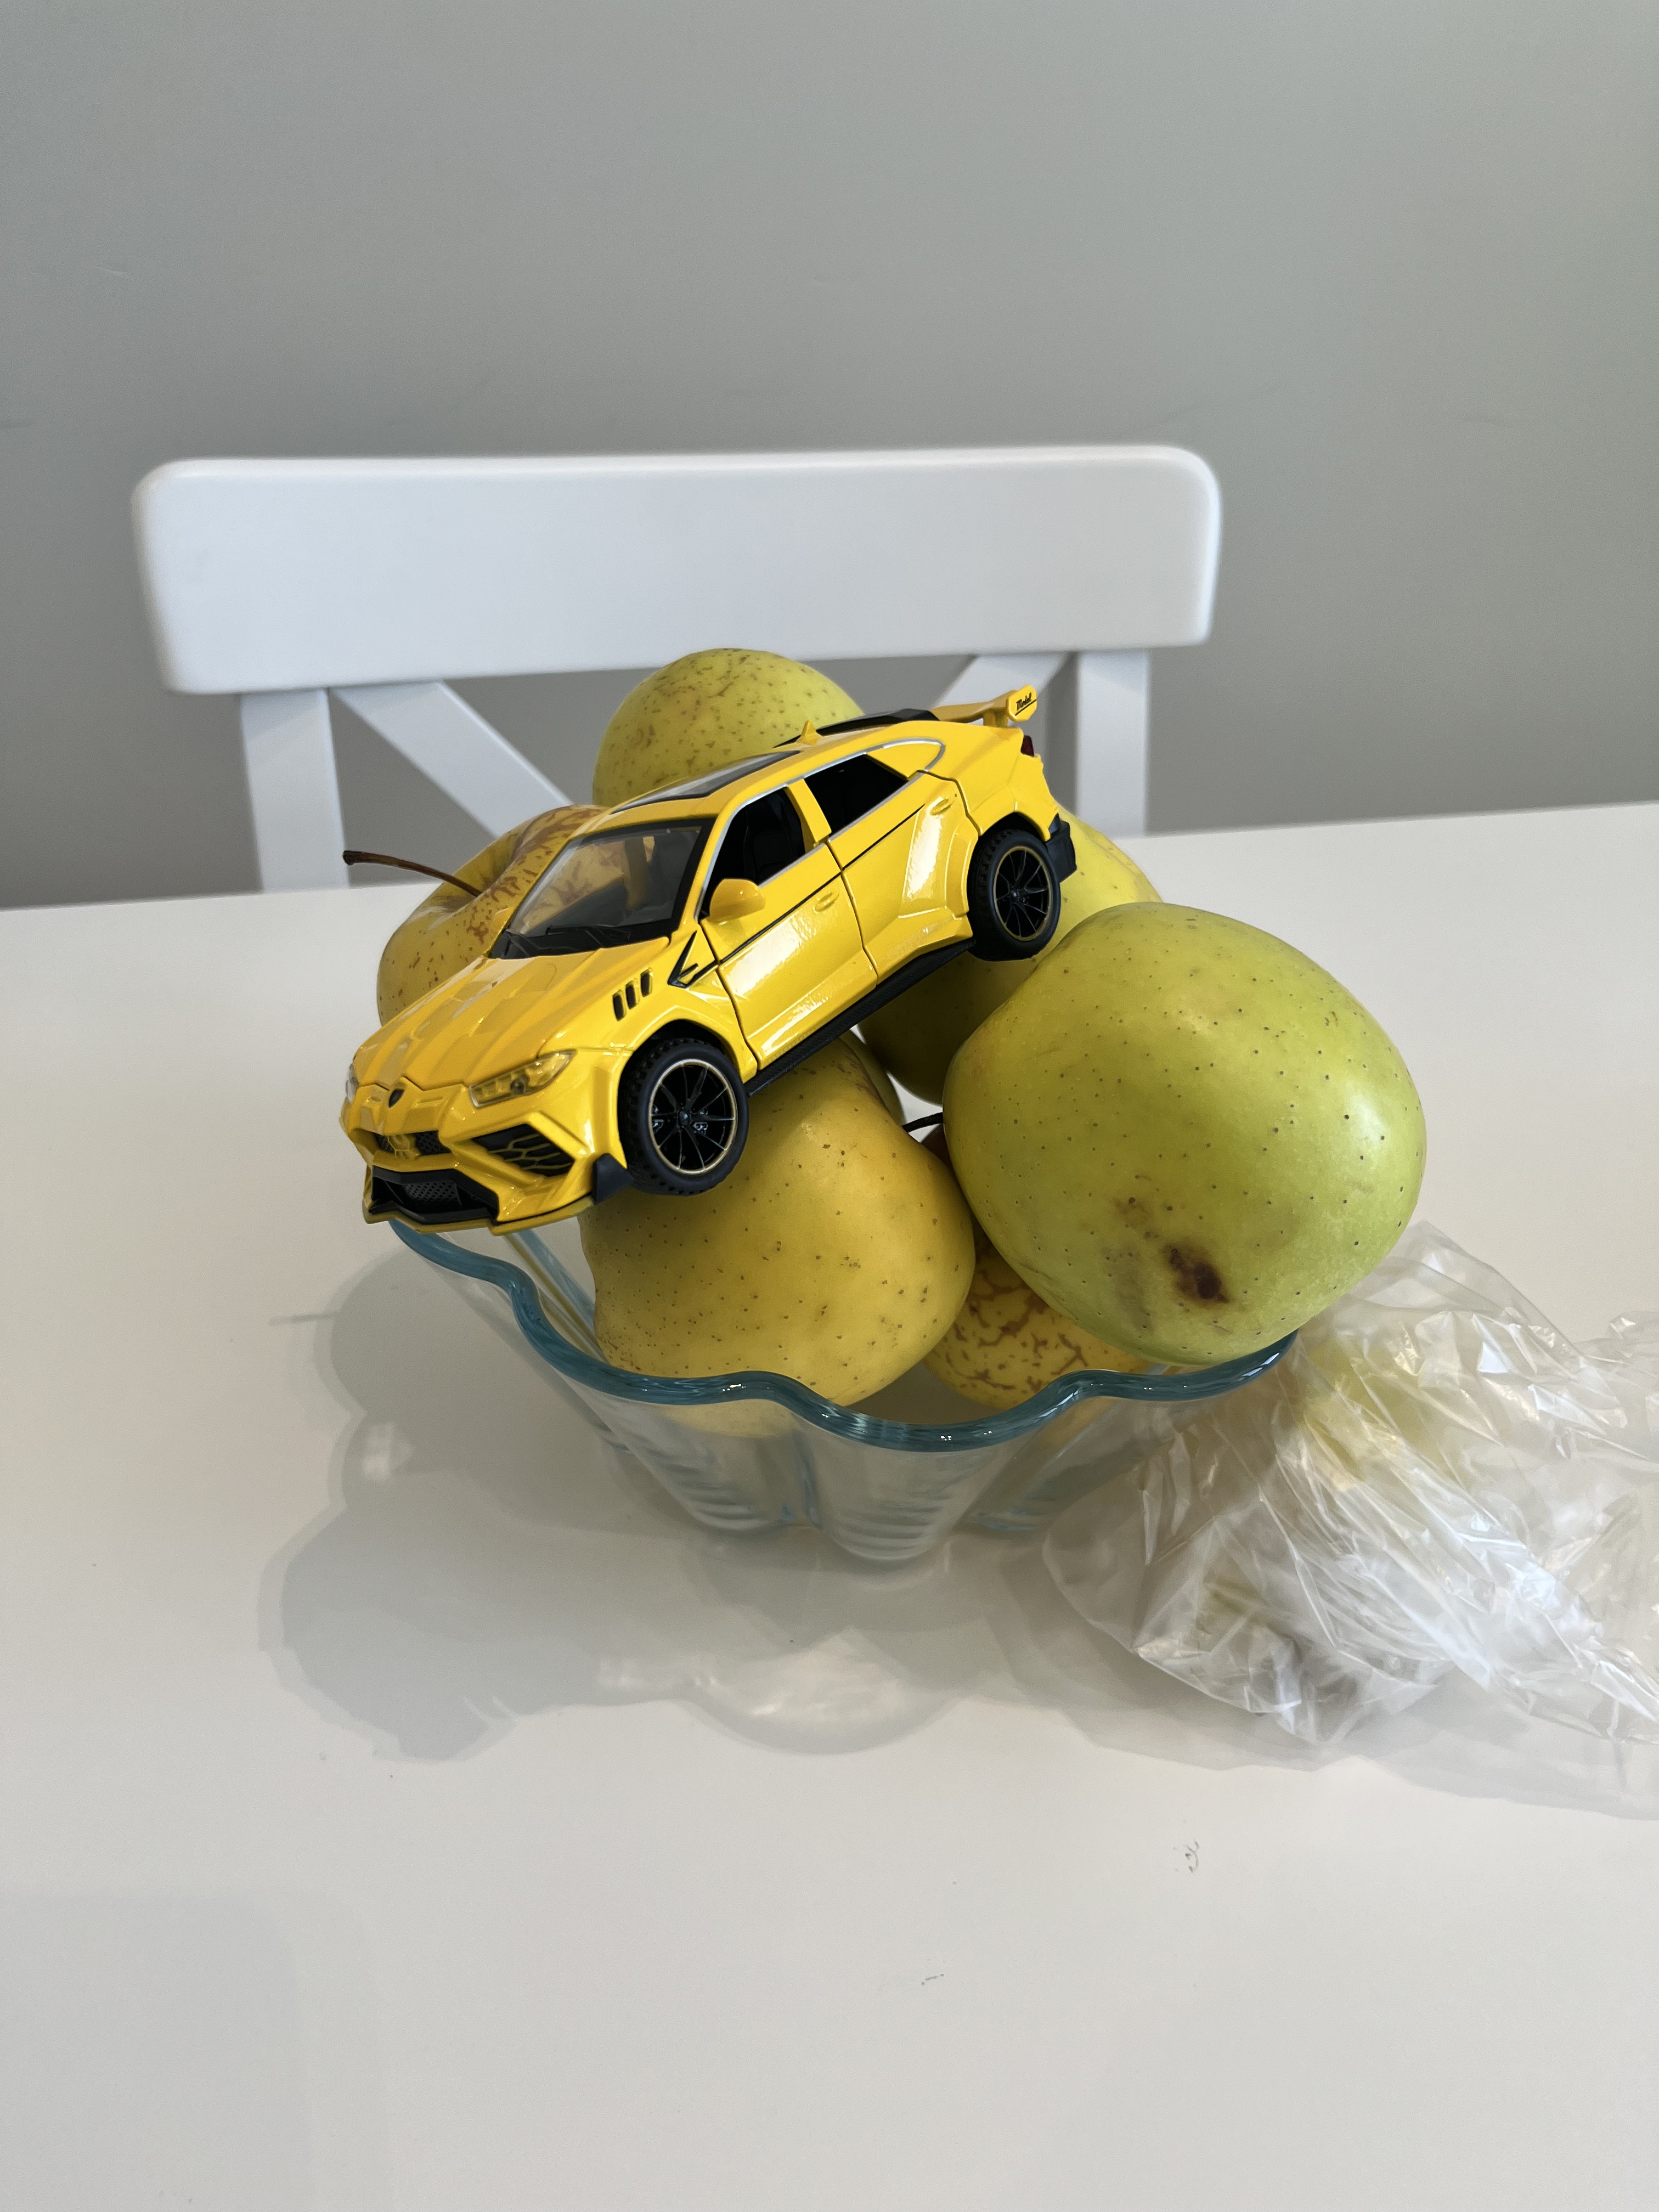lambo: (282, 667, 1084, 1263)
